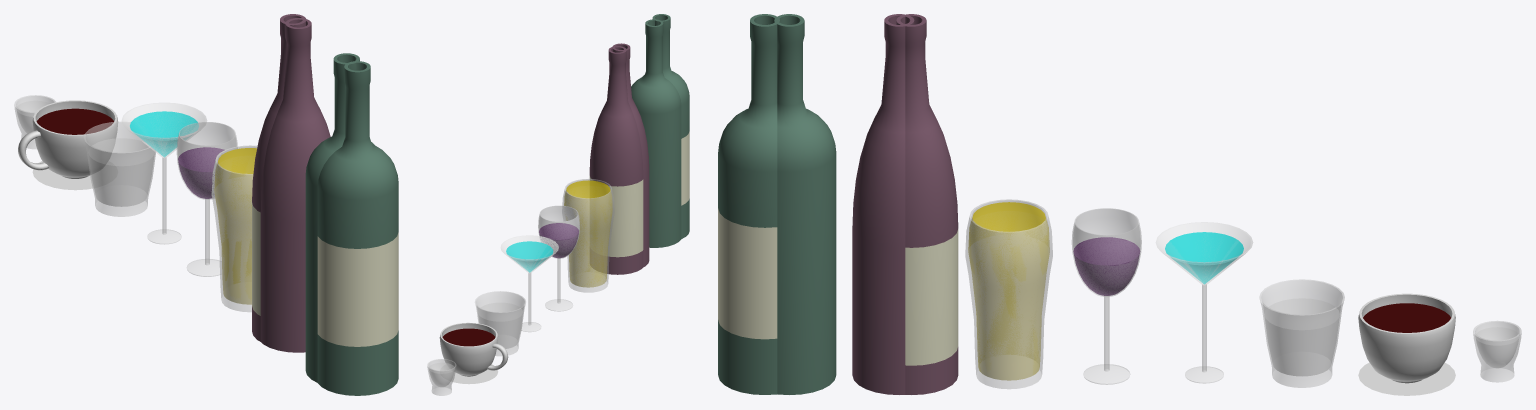
File: cups.fbx
3 renders of one model, left to right at view 1: azimuth 30°, elevation 25°; view 2: azimuth 150°, elevation 25°; view 3: azimuth 270°, elevation 25°, orthographic. The views are drawn at different scales.
Parts seen in each view (by area): view 1: ワインボトル_ラベル別, ビール瓶, コーヒーカップ, ビアグラス, ロックグラス, ワインボトル, ライングラス, カクテルグラス, ビール瓶_ラベル別, コースター, おちょこ; view 2: ビール瓶_ラベル別, ワインボトル, ビアグラス, コーヒーカップ, ライングラス, ロックグラス, ワインボトル_ラベル別, カクテルグラス, ビール瓶, おちょこ, コースター; view 3: ワインボトル_ラベル別, ワインボトル, ビール瓶, ビール瓶_ラベル別, ビアグラス, ロックグラス, コーヒーカップ, ライングラス, カクテルグラス, おちょこ, コースター.
Boxes of the visible parts, bbox=[...] form: ワインボトル_ラベル別: bbox=[317, 61, 398, 395]; ビール瓶: bbox=[260, 18, 330, 352]; コーヒーカップ: bbox=[18, 100, 118, 178]; ビアグラス: bbox=[211, 145, 257, 312]; ロックグラス: bbox=[84, 121, 155, 216]; ワインボトル: bbox=[305, 53, 374, 382]; ライングラス: bbox=[176, 122, 237, 276]; カクテルグラス: bbox=[121, 102, 207, 244]; ビール瓶_ラベル別: bbox=[252, 14, 305, 341]; コースター: bbox=[32, 161, 117, 190]; おちょこ: bbox=[14, 95, 55, 149]; ビール瓶_ラベル別: bbox=[589, 46, 643, 274]; ワインボトル: bbox=[631, 19, 681, 247]; ビアグラス: bbox=[562, 179, 614, 292]; コーヒーカップ: bbox=[439, 322, 508, 376]; ライングラス: bbox=[538, 205, 579, 311]; ロックグラス: bbox=[475, 291, 525, 356]; ワインボトル_ラベル別: bbox=[642, 14, 689, 238]; カクテルグラス: bbox=[500, 235, 558, 332]; ビール瓶: bbox=[612, 43, 649, 267]; おちょこ: bbox=[427, 359, 456, 395]; コースター: bbox=[440, 364, 498, 384]; ワインボトル_ラベル別: bbox=[718, 14, 779, 394]; ワインボトル: bbox=[774, 14, 836, 394]; ビール瓶: bbox=[852, 14, 914, 394]; ビール瓶_ラベル別: bbox=[896, 14, 958, 394]; ビアグラス: bbox=[965, 199, 1052, 389]; ロックグラス: bbox=[1259, 279, 1344, 387]; コーヒーカップ: bbox=[1358, 293, 1455, 383]; ライングラス: bbox=[1071, 208, 1141, 384]; カクテルグラス: bbox=[1155, 222, 1253, 383]; おちょこ: bbox=[1473, 320, 1521, 382]; コースター: bbox=[1358, 362, 1455, 395].
Size of the model in its own units: 2.5 by 8.02 by 16.46.
